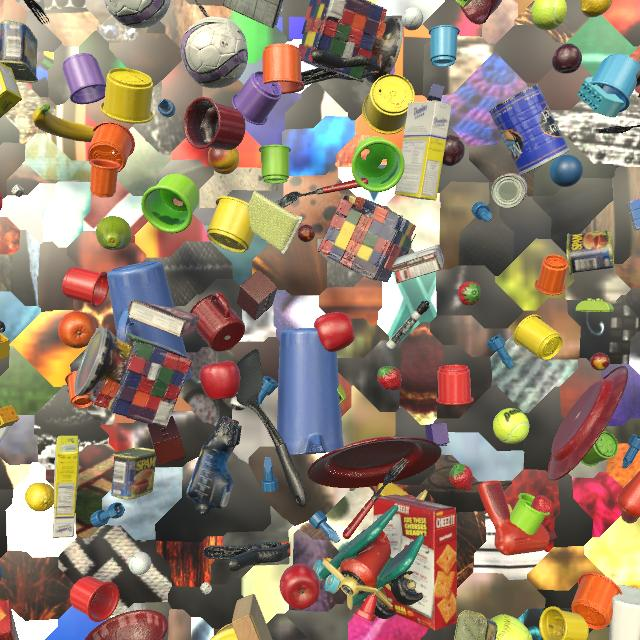ycb_002_master_chef_can: (489, 84, 570, 176)
ycb_003_cracker_box: (373, 495, 457, 631), (0, 600, 19, 640)
ycb_004_sugar_box: (394, 100, 452, 200), (52, 436, 79, 538), (0, 63, 22, 118)
ycb_005_tomato_soup_can: (491, 173, 528, 208)
ycb_006_mustard_bottle: (210, 623, 238, 640)
ycb_008_pudding_box: (127, 300, 199, 337), (392, 244, 444, 283), (223, 0, 284, 28)
ycb_010_potted_meat_can: (0, 21, 38, 83), (111, 448, 156, 500), (566, 230, 614, 275), (454, 610, 498, 640)
ycb_011_banana: (33, 104, 95, 142)
ycb_012_strawberry: (377, 366, 402, 391), (449, 464, 473, 490), (531, 495, 554, 521), (458, 281, 481, 306)
ycb_013_apple: (280, 563, 320, 610), (314, 312, 355, 352), (200, 360, 240, 400)
ycb_014_lemon: (25, 482, 54, 512), (580, 0, 613, 18)
ycb_015_peach: (208, 148, 240, 174)
ycb_016_pear: (96, 216, 132, 250)
ycb_017_orange: (58, 311, 96, 348)
ycb_018_plum: (552, 43, 582, 74), (442, 135, 465, 166)
